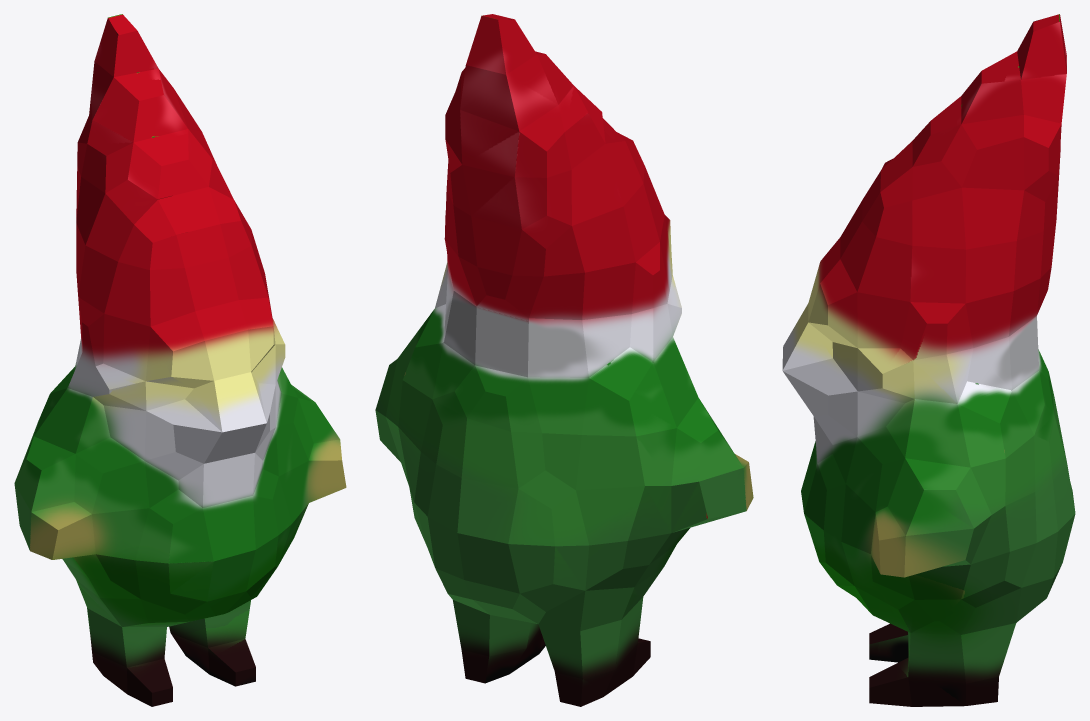
The model's file is gnome2.fbx.
The picture shows the model from 3 angles, left to right: view 1: azimuth 30°, elevation 25°; view 2: azimuth 150°, elevation 25°; view 3: azimuth 270°, elevation 25°; orthographic projection. The views are drawn at different scales.
Parts seen in each view (by area): view 1: 13184_PudgyGnome_v1_NEW; view 2: 13184_PudgyGnome_v1_NEW; view 3: 13184_PudgyGnome_v1_NEW.
Boxes of the visible parts, x1=… form: 13184_PudgyGnome_v1_NEW: x1=14, y1=14, x2=346, y2=706; 13184_PudgyGnome_v1_NEW: x1=375, y1=14, x2=753, y2=706; 13184_PudgyGnome_v1_NEW: x1=782, y1=14, x2=1075, y2=706.
Bounding box in the file's own units: 1584 × 2998 × 1207.
Materials: 1 (1 with a texture image).
